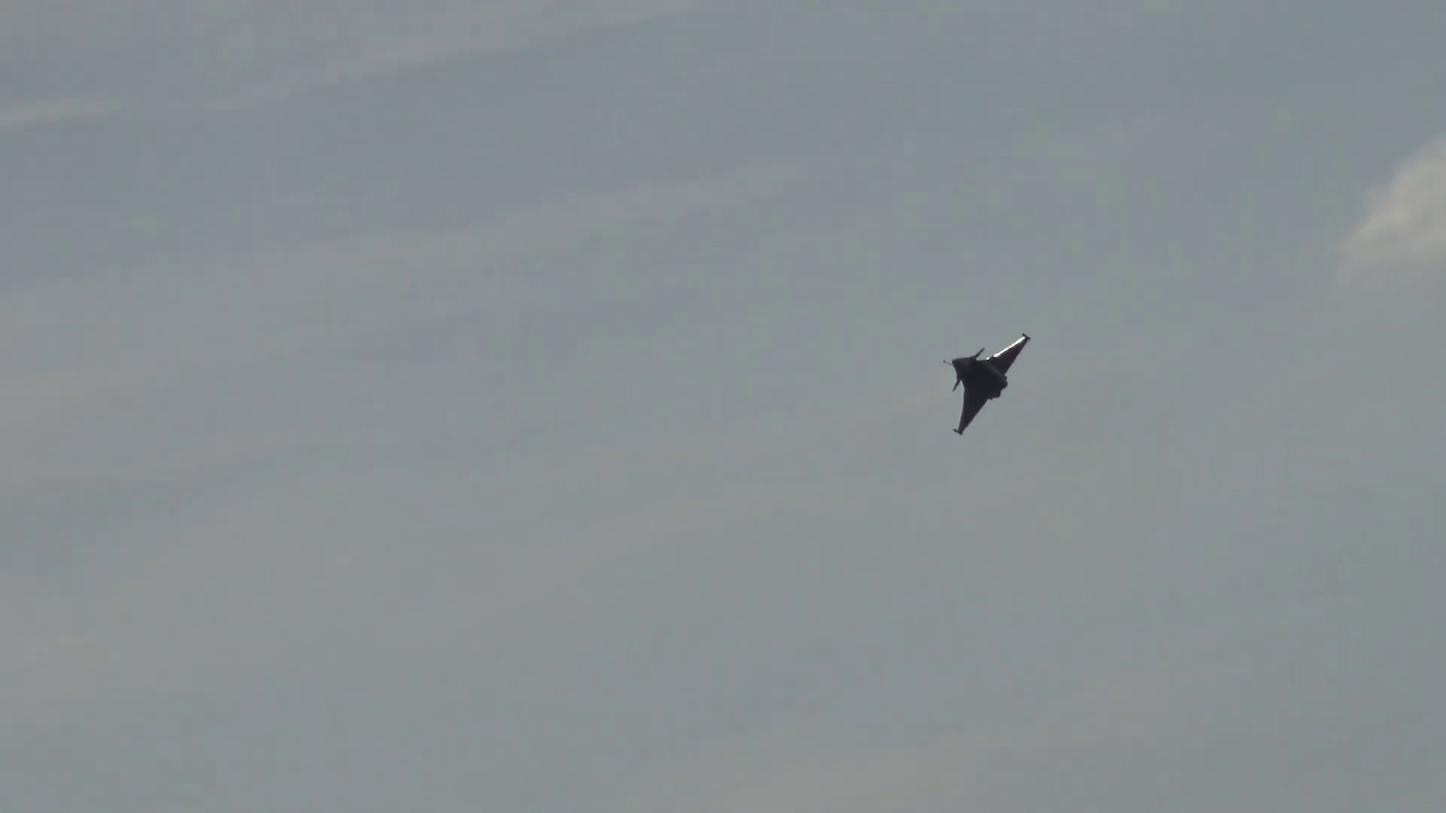Rafale: (945, 327, 1035, 436)
